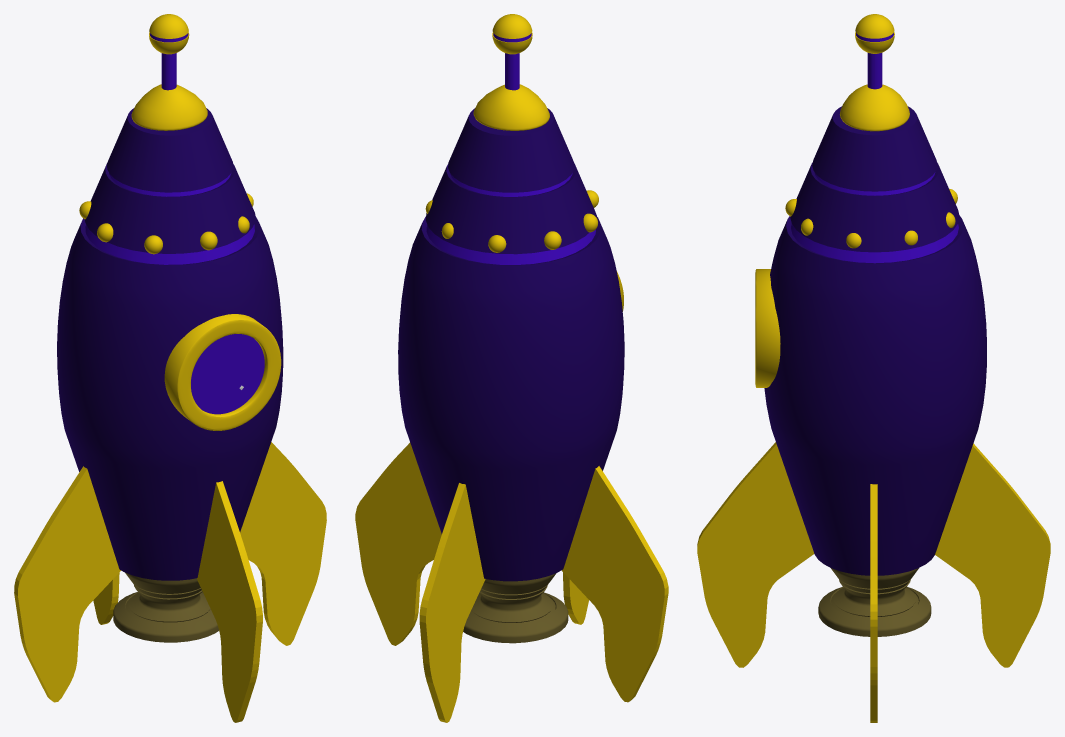
The model's file is rocket2.glb.
3 views of the same model, side by side, from view 1: azimuth 30°, elevation 25°; view 2: azimuth 150°, elevation 25°; view 3: azimuth 270°, elevation 25° (orthographic).
Visible parts, largest first — view 1: Cylinder, Plane.002, Plane, Cylinder.002, Plane.003, Cylinder.003, Sphere, Sphere.001, Sphere.002, Plane.001, Cylinder.001; view 2: Cylinder, Plane.002, Plane, Plane.001, Cylinder.003, Sphere, Sphere.001, Sphere.002, Plane.003, Cylinder.001; view 3: Cylinder, Plane.003, Plane.001, Cylinder.003, Cylinder.002, Sphere, Plane, Sphere.001, Sphere.002, Cylinder.001.
Part boxes in pixels (<box>): Cylinder: <box>57,108,283,580</box>; Plane.002: <box>14,466,120,702</box>; Plane: <box>240,442,326,645</box>; Cylinder.002: <box>164,314,281,430</box>; Plane.003: <box>196,481,262,722</box>; Cylinder.003: <box>113,572,218,642</box>; Sphere: <box>131,84,207,130</box>; Sphere.001: <box>149,14,189,54</box>; Sphere.002: <box>79,193,253,254</box>; Plane.001: <box>93,572,119,624</box>; Cylinder.001: <box>161,53,176,90</box>; Cylinder: <box>398,108,624,581</box>; Plane.002: <box>562,466,668,702</box>; Plane: <box>355,442,441,645</box>; Plane.001: <box>419,483,485,722</box>; Cylinder.003: <box>463,573,568,643</box>; Sphere: <box>473,84,549,130</box>; Sphere.001: <box>492,14,532,54</box>; Sphere.002: <box>425,190,598,252</box>; Plane.003: <box>563,572,588,624</box>; Cylinder.001: <box>505,53,519,90</box>; Cylinder: <box>764,106,986,575</box>; Plane.003: <box>697,442,814,667</box>; Plane.001: <box>935,443,1050,667</box>; Cylinder.003: <box>818,568,931,636</box>; Cylinder.002: <box>755,269,780,387</box>; Sphere: <box>840,84,909,131</box>; Plane: <box>870,484,877,722</box>; Sphere.001: <box>855,14,894,53</box>; Sphere.002: <box>785,188,957,248</box>; Cylinder.001: <box>867,53,882,89</box>.
Size of the model in its own units: 0.3741 by 0.7597 by 0.3741.
